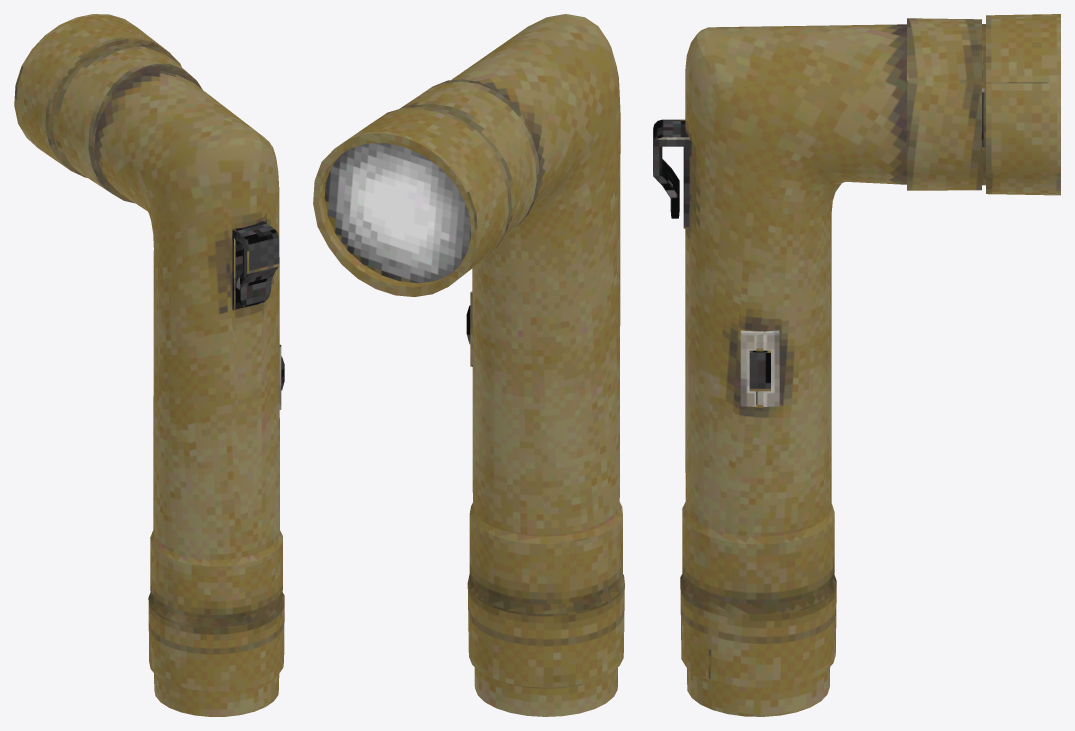
File: FlashLight_002.glb
The picture shows the model from 3 angles, left to right: view 1: azimuth 30°, elevation 25°; view 2: azimuth 150°, elevation 25°; view 3: azimuth 270°, elevation 25°; orthographic projection. The views are drawn at different scales.
Visible parts, largest first — view 1: Flashlight002.001; view 2: Flashlight002.001; view 3: Flashlight002.001.
Boxes of the visible parts, x1,y1,x2,y2 form: Flashlight002.001: [14, 14, 284, 716]; Flashlight002.001: [313, 14, 624, 716]; Flashlight002.001: [653, 14, 1060, 716].
Size of the model in its own units: 0.0769 by 0.2995 by 0.1671.
1 material, 1 textured.
